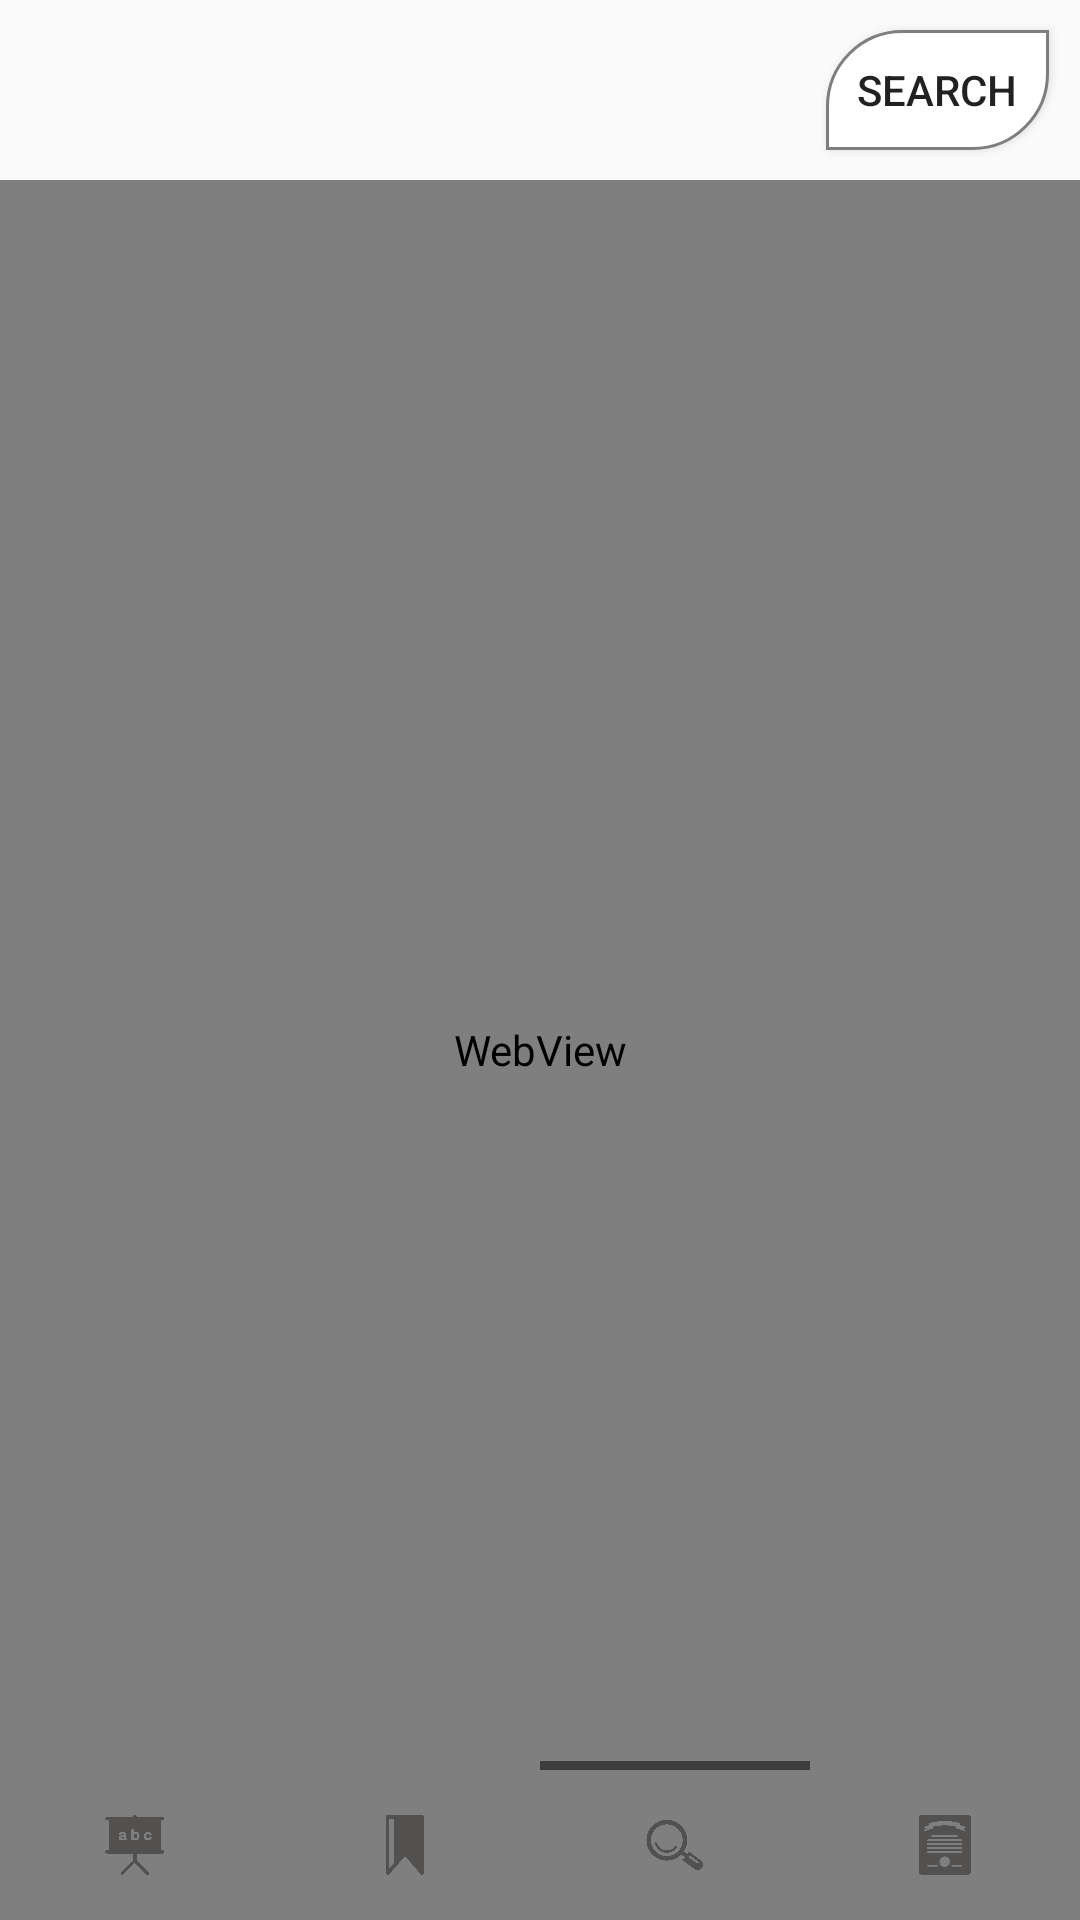

Where to tap for icons on this 1080*1920 app screen, as [x,y]:
bookmarks: [405,1845]
search: [675,1845]
words: [134,1845]
